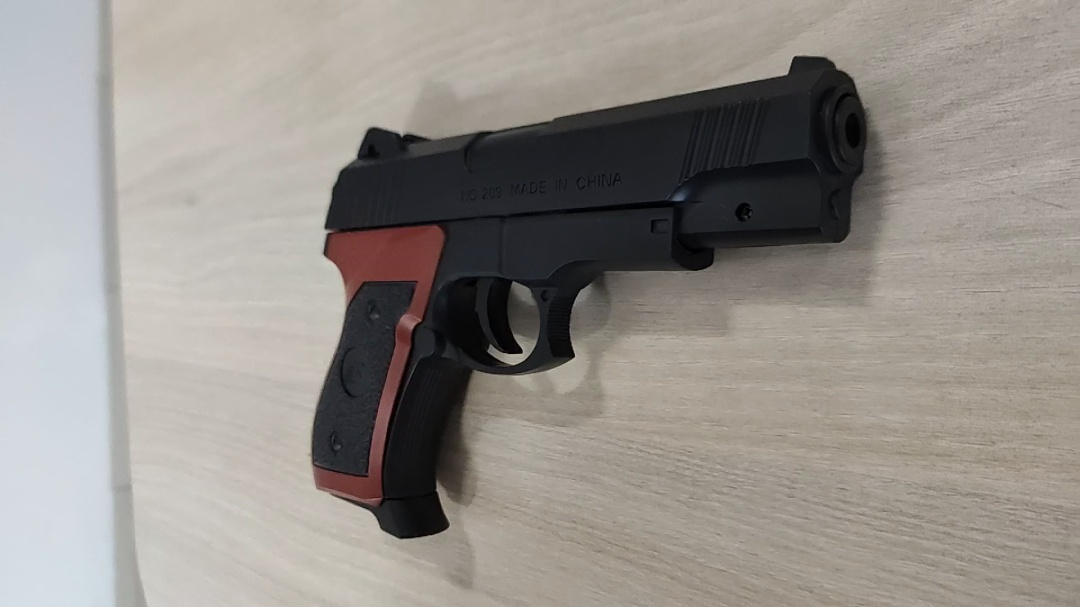gun: (299, 51, 875, 541)
